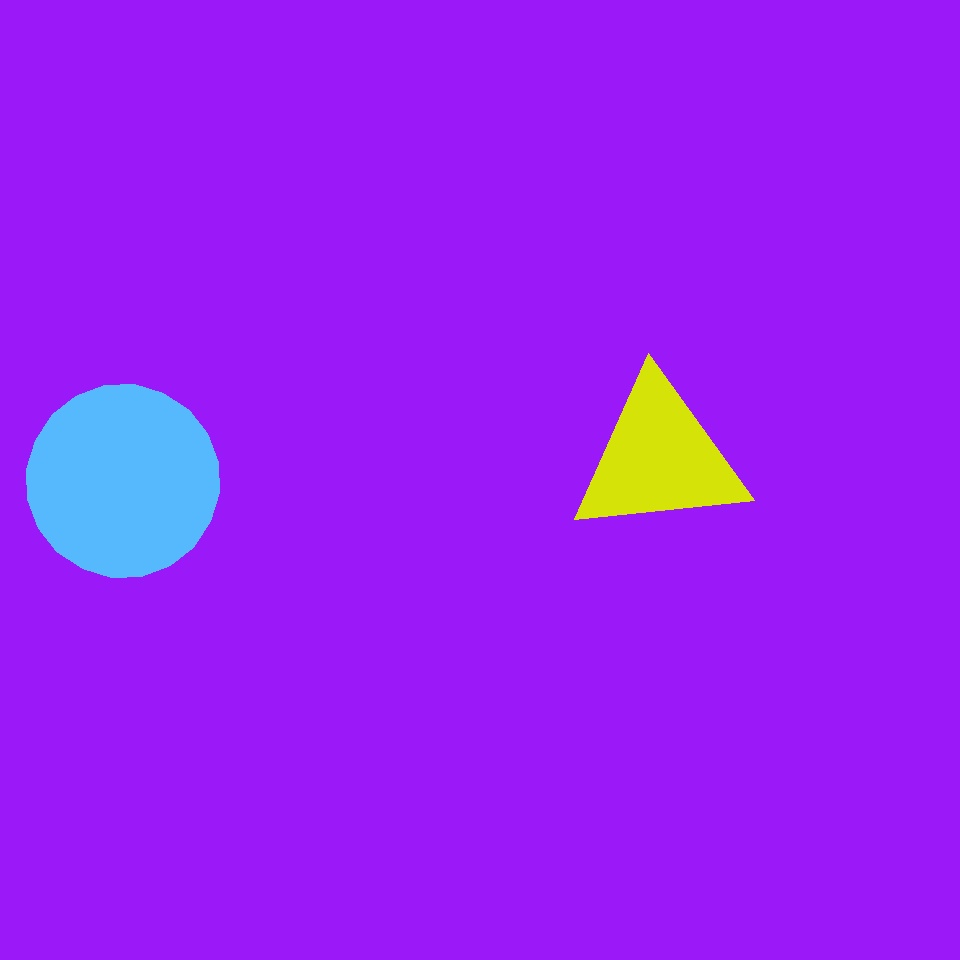circle: (569, 375, 749, 541)
triangle: (26, 385, 220, 578)
